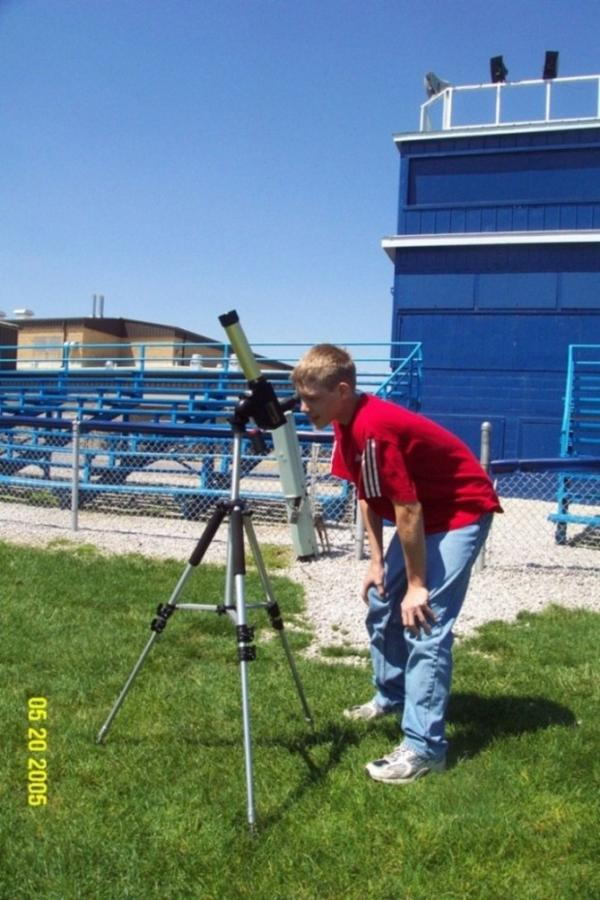person: (296, 344, 496, 786)
